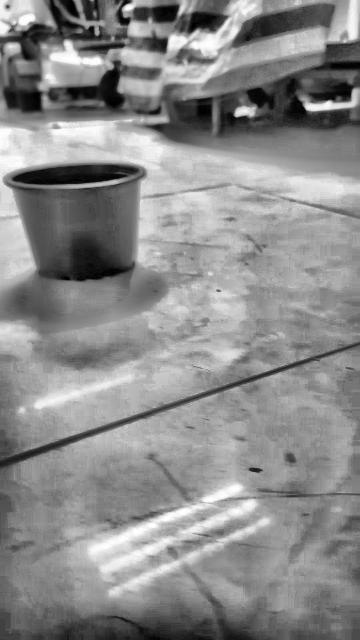pot: (4, 162, 145, 281)
